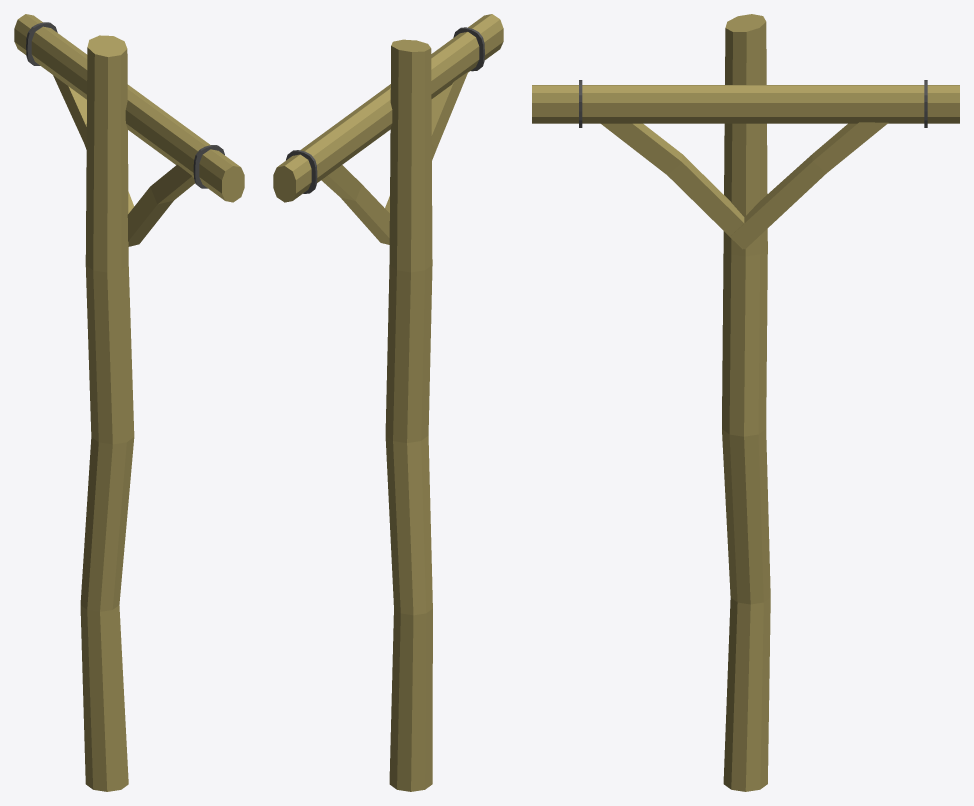
File: lamppost03.fbx
3 views of the same model, side by side, from view 1: azimuth 30°, elevation 25°; view 2: azimuth 150°, elevation 25°; view 3: azimuth 270°, elevation 25° (orthographic). The views are drawn at different scales.
Parts seen in each view (by area): view 1: Cube.014; view 2: Cube.014; view 3: Cube.014.
Part boxes in pixels (bbox=[...]): Cube.014: bbox=[14, 14, 244, 791]; Cube.014: bbox=[273, 14, 503, 791]; Cube.014: bbox=[532, 14, 959, 791].
Size of the model in its own units: 0.3488 by 4.24 by 2.16.
